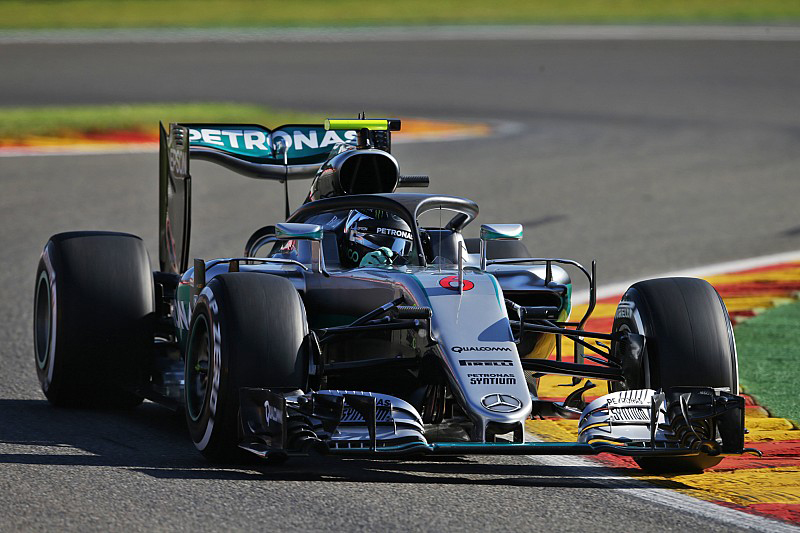F1 Car: (24, 105, 763, 484)
